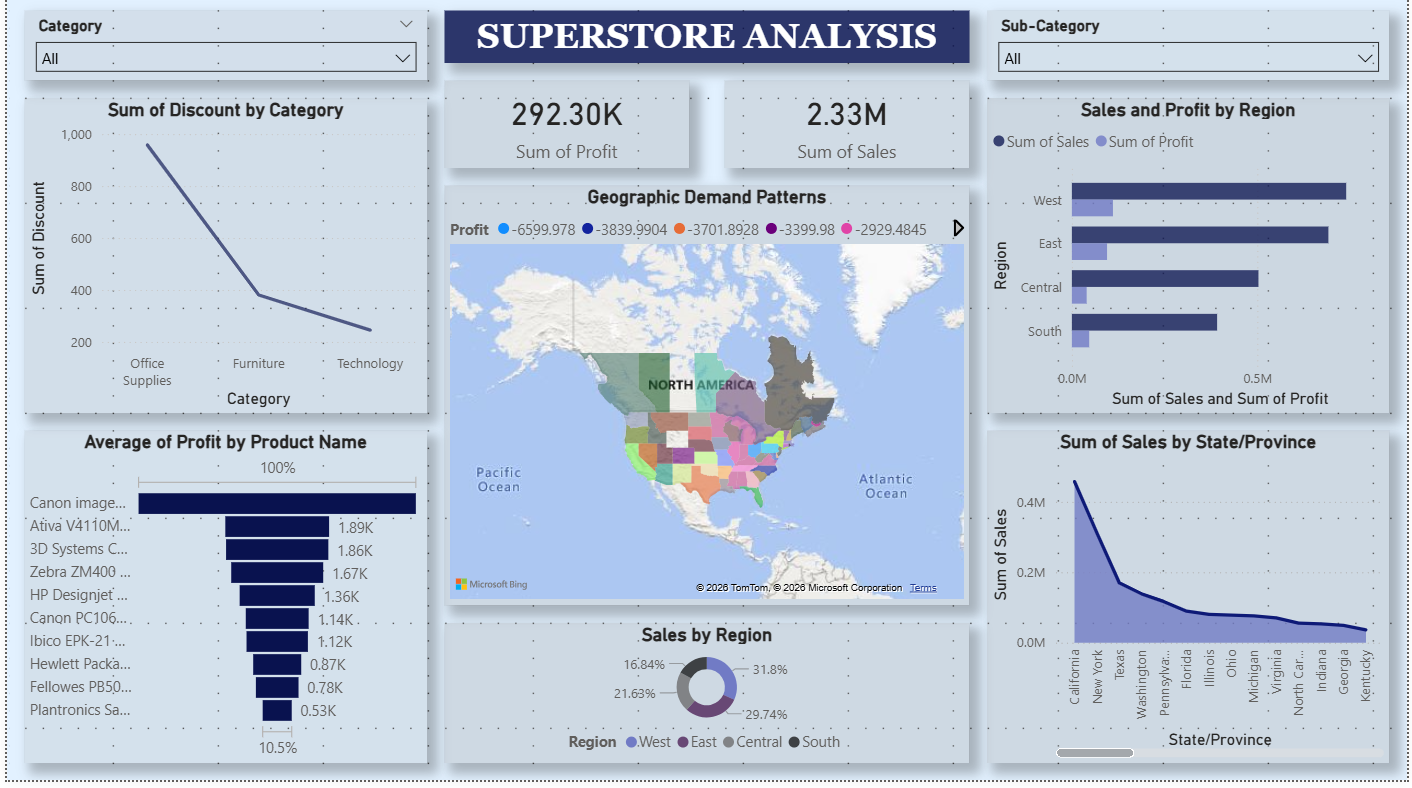

Layout of this report page (visuals, bound fields, positions):
{"tool":"powerbi","page":{"name":"Page 1","canvas":[1280,720],"ordinal":0},"visuals":[{"type":"card","fields":{"Values":["Sum(Orders.Profit)"]},"box":[400,80,224,80],"z":0},{"type":"card","fields":{"Values":["Sum(Orders.Sales)"]},"box":[656,80,224,80],"z":1000},{"type":"lineChart","fields":{"Category":["Orders.Category"],"Y":["Sum(Orders.Discount)"]},"box":[16,96,368,288],"z":2000},{"type":"clusteredBarChart","title":"Sales and Profit by Region","fields":{"Category":["Orders.Region"],"Y":["Sum(Orders.Sales)","Sum(Orders.Profit)"]},"box":[896,96,368,288],"z":3000},{"type":"filledMap","title":"Geographic Demand Patterns","fields":{"Category":["Orders.State/Province"],"Series":["Orders.Profit"]},"box":[400,176,480,384],"z":4000},{"type":"funnel","fields":{"Y":["Avg(Orders.Profit)"],"Category":["Orders.Product Name"]},"box":[16,400,368,304],"z":5000},{"type":"areaChart","fields":{"Category":["Orders.State/Province"],"Y":["Sum(Orders.Sales)"]},"box":[896,400,368,304],"z":6000},{"type":"textbox","box":[400,16,480,48],"z":7000},{"type":"donutChart","title":"Sales by Region","fields":{"Y":["Sum(Orders.Sales)"],"Category":["Orders.Region"]},"box":[400,576,480,128],"z":8000},{"type":"slicer","fields":{"Values":["Orders.Sub-Category"]},"box":[896,16,368,64],"z":9000},{"type":"slicer","fields":{"Values":["Orders.Category"]},"box":[16,16,368,64],"z":10000}]}

Visuals, with their boxes in screenshot pixels (x1, y1, x2, y2), scaled from the page's 1280x720 canvas onto the 1412x788 screenshot:
card - Sum(Orders.Profit): <box>441,88,688,175</box>
card - Sum(Orders.Sales): <box>724,88,971,175</box>
lineChart - Orders.Category x Sum(Orders.Discount): <box>18,105,424,420</box>
"Sales and Profit by Region" clusteredBarChart: <box>988,105,1394,420</box>
"Geographic Demand Patterns" filledMap: <box>441,193,971,613</box>
funnel - Avg(Orders.Profit) x Orders.Product Name: <box>18,438,424,770</box>
areaChart - Orders.State/Province x Sum(Orders.Sales): <box>988,438,1394,770</box>
textbox: <box>441,18,971,70</box>
"Sales by Region" donutChart: <box>441,630,971,770</box>
slicer - Orders.Sub-Category: <box>988,18,1394,88</box>
slicer - Orders.Category: <box>18,18,424,88</box>
